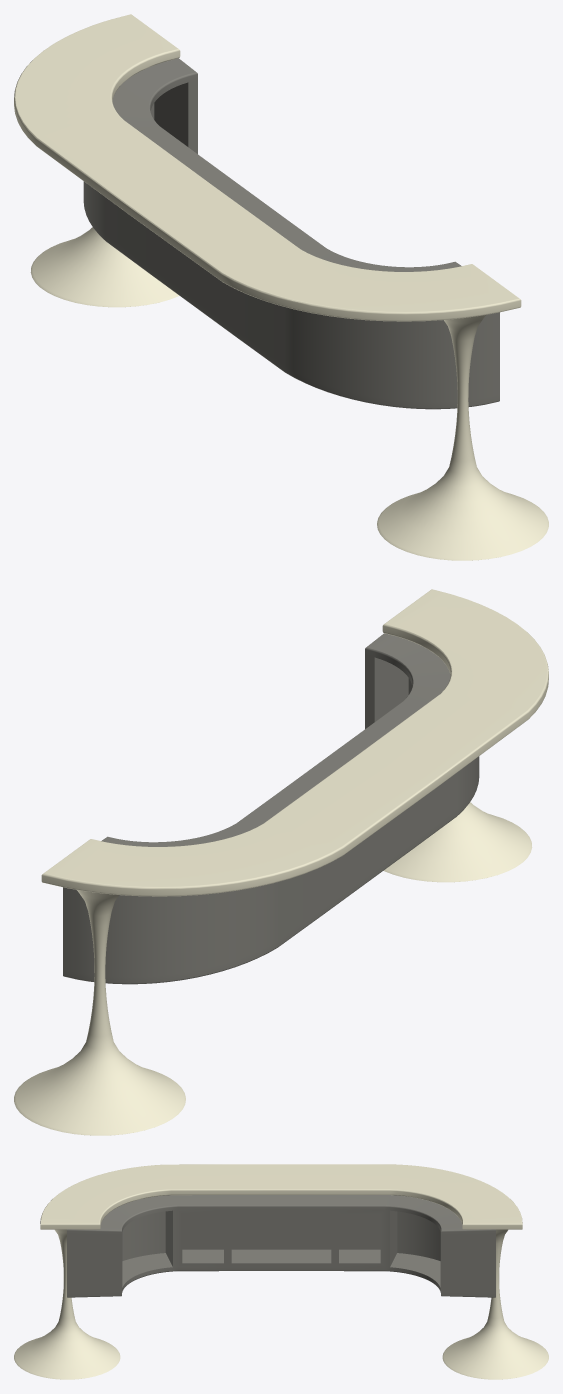
File: CurvedTableFront.fbx
3 views of the same model, one above another, from view 1: azimuth 30°, elevation 25°; view 2: azimuth 150°, elevation 25°; view 3: azimuth 270°, elevation 25° (orthographic). The views are drawn at different scales.
Parts seen in each view (by area): view 1: CurvedFrontTableTop, CurvedFrontSecondaryTop, FrontTableBase; view 2: CurvedFrontTableTop, CurvedFrontSecondaryTop, FrontTableBase; view 3: CurvedFrontSecondaryTop, CurvedFrontTableTop, FrontTableBase.
Part boxes in pixels (x1,y1,x2,y2): CurvedFrontTableTop: [14, 14, 521, 321]; CurvedFrontSecondaryTop: [83, 58, 499, 409]; FrontTableBase: [30, 227, 548, 560]; CurvedFrontTableTop: [41, 589, 548, 896]; CurvedFrontSecondaryTop: [63, 633, 479, 984]; FrontTableBase: [14, 802, 532, 1135]; CurvedFrontSecondaryTop: [67, 1195, 495, 1297]; CurvedFrontTableTop: [40, 1164, 522, 1229]; FrontTableBase: [14, 1229, 548, 1379].
Size of the model in its own units: 4.44 by 4.16 by 13.99.
